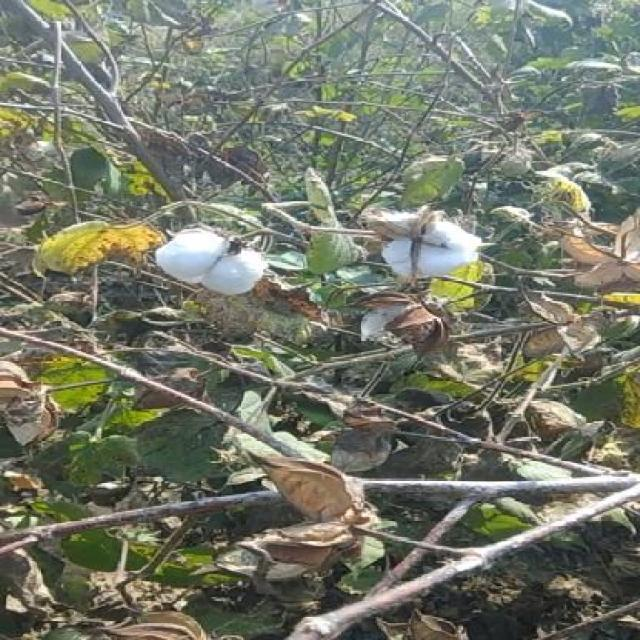cotton_ready: (144, 209, 291, 311), (351, 199, 504, 296)
